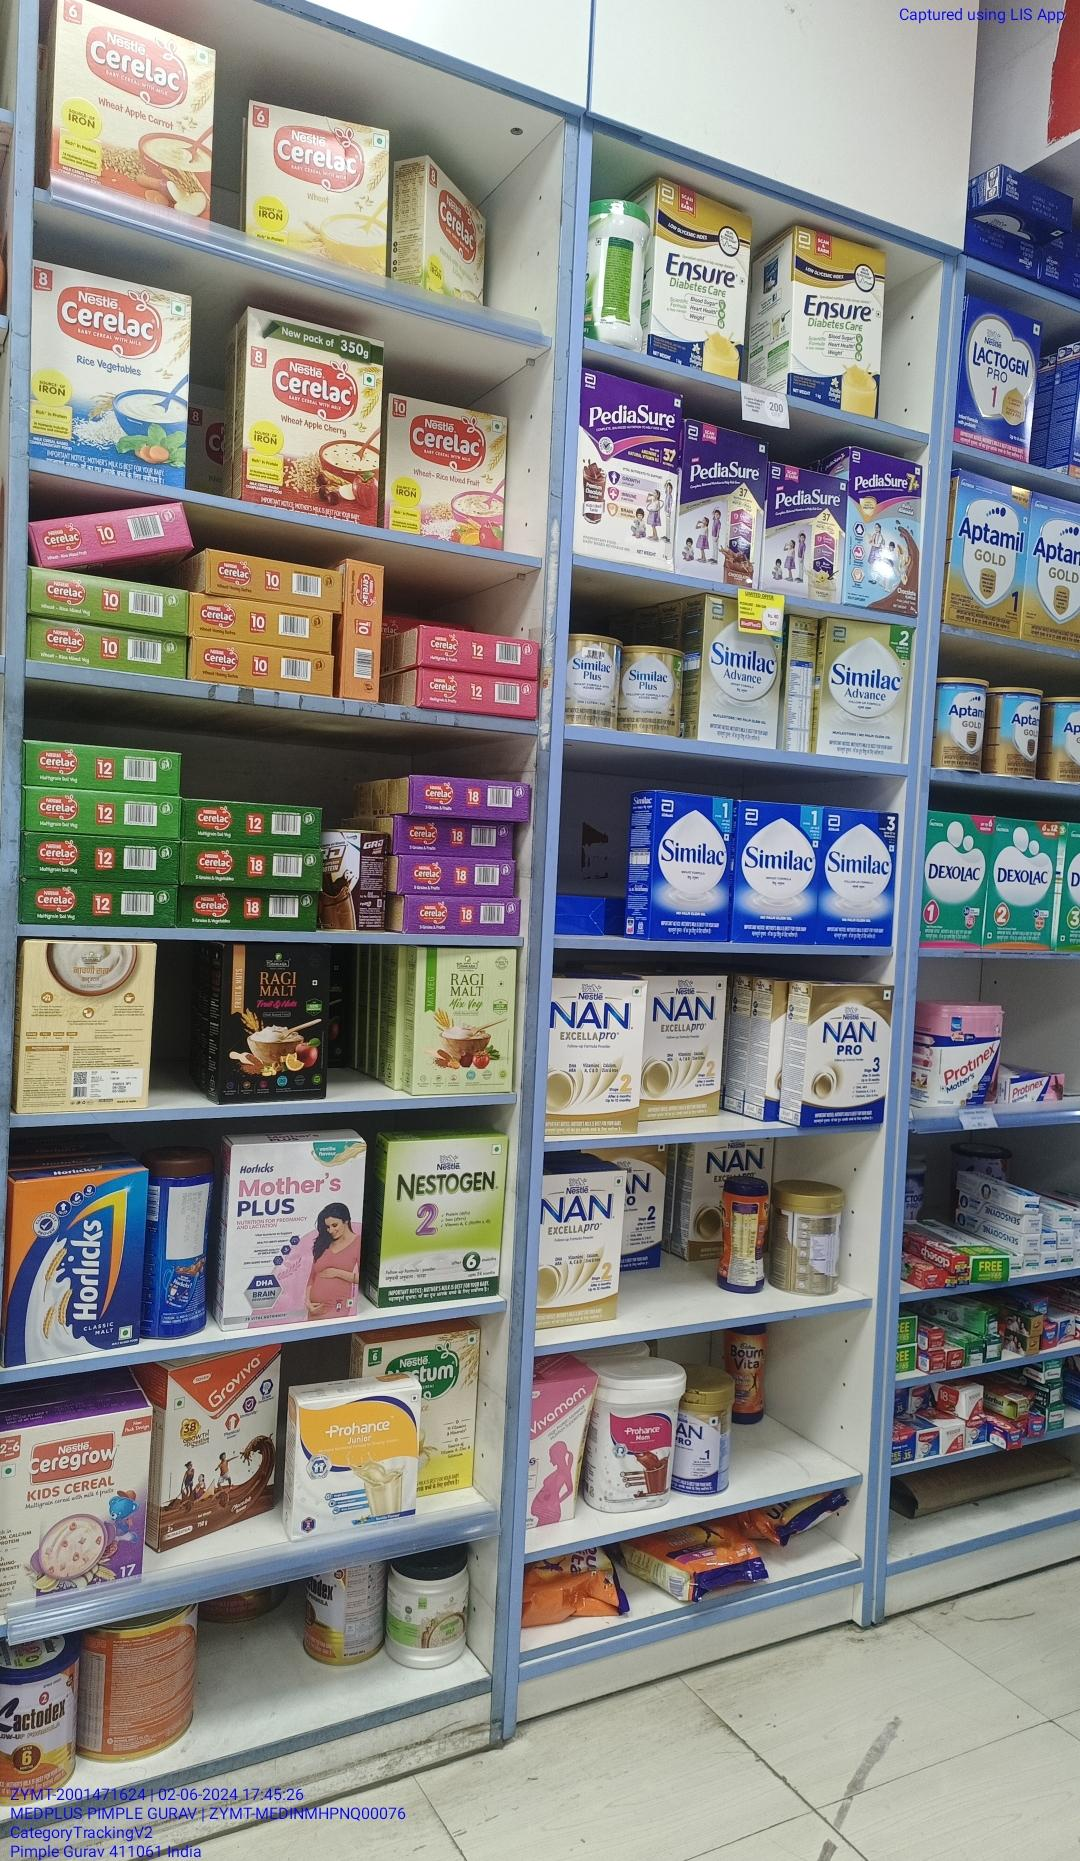HORLICK_CLASSIC_MALT_500_G_PACK: (10, 1168, 141, 1360)
PEDIASURE_CHOCOLATE_500_G_PACK: (676, 419, 761, 586)
PEDIASURE_VANILLA_500_G_PACK: (766, 461, 842, 605)
